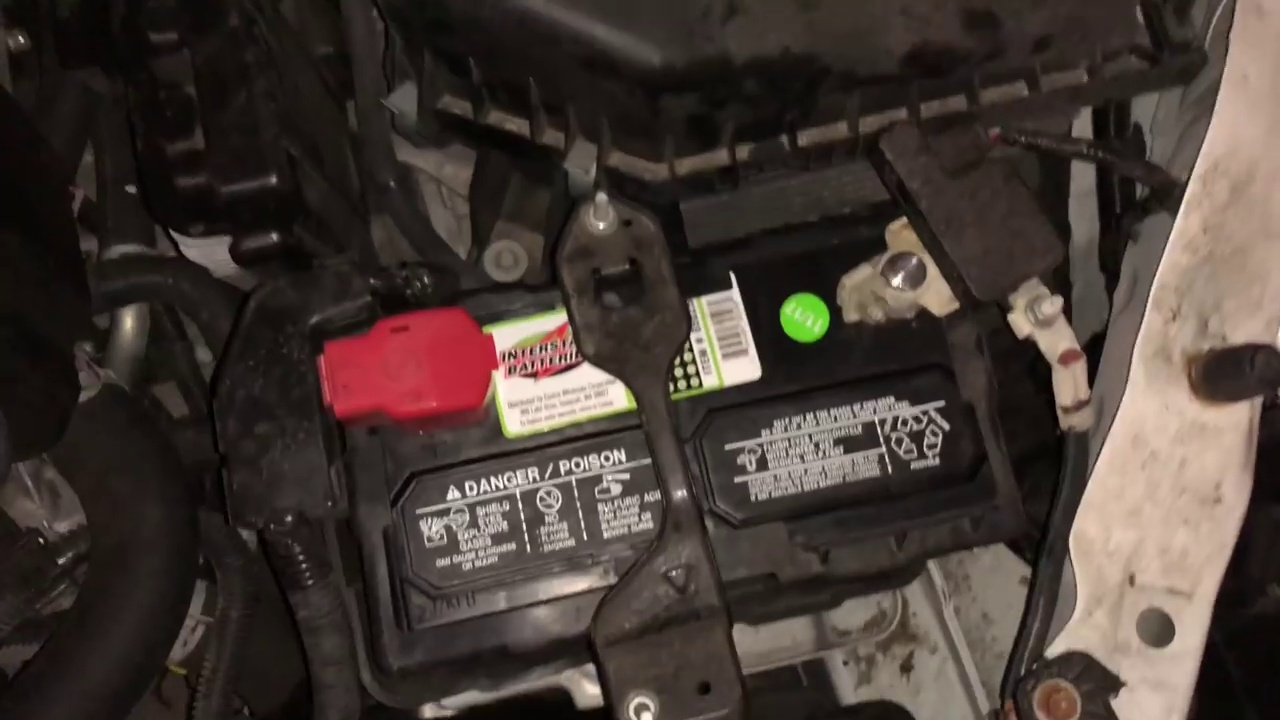battery: (309, 229, 1002, 643)
neg_connected: (818, 225, 945, 348)
pos_connected: (312, 306, 509, 449)
